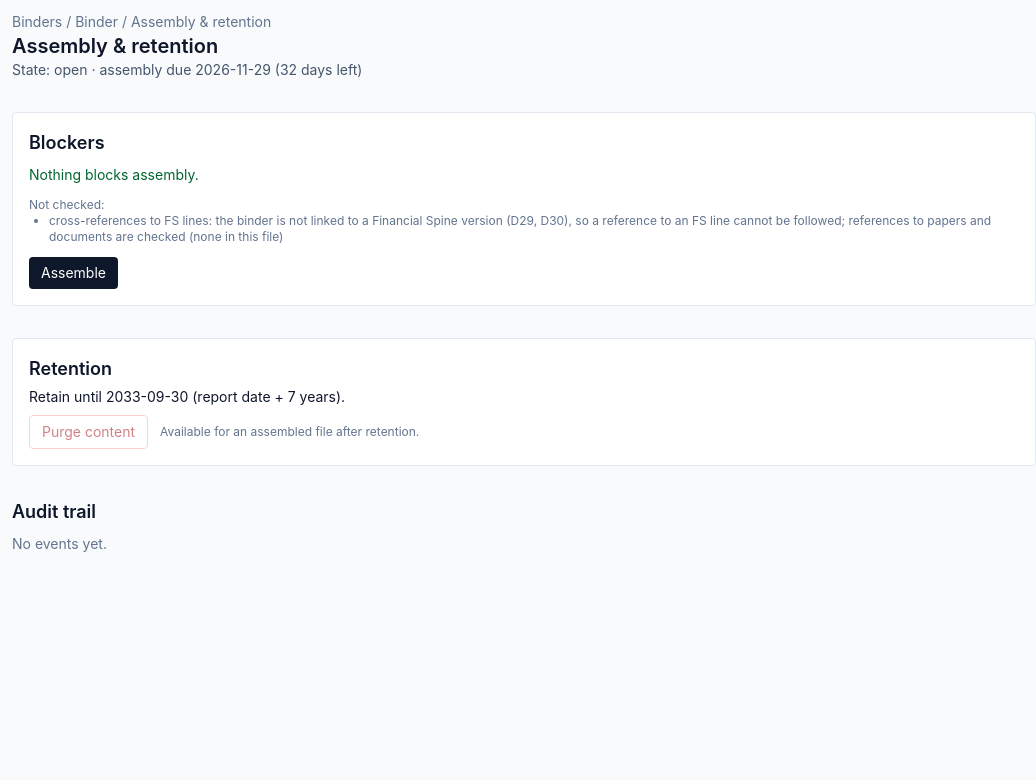
a refused Assemble leaves the state open and shows the refusal
Click the button "Assemble" at (74, 273), box x1=29 y1=257 x2=118 y2=289
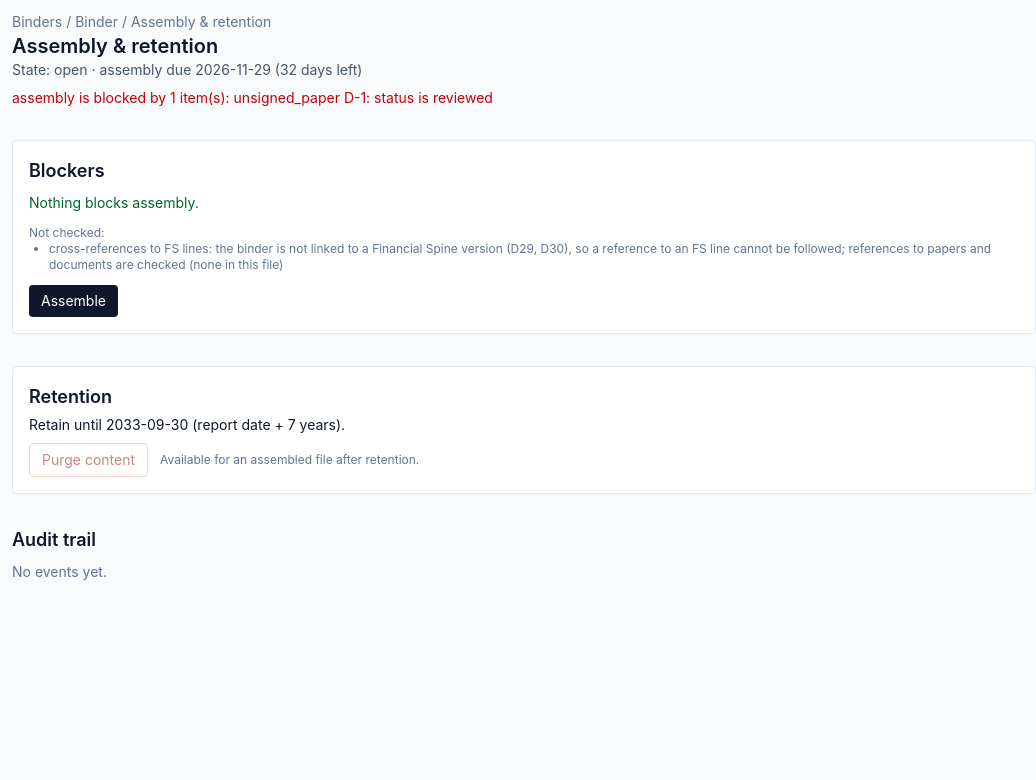
expect the text with test id "state" reads "open": met, box x1=54 y1=61 x2=88 y2=78
expect the message shows "blocked by 1 item(s)": met, box x1=12 y1=89 x2=493 y2=106
